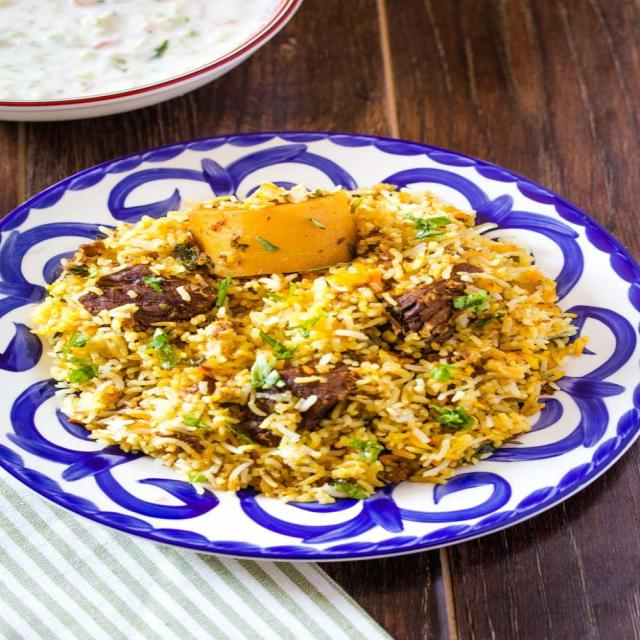mutton biryani: (67, 185, 563, 502)
